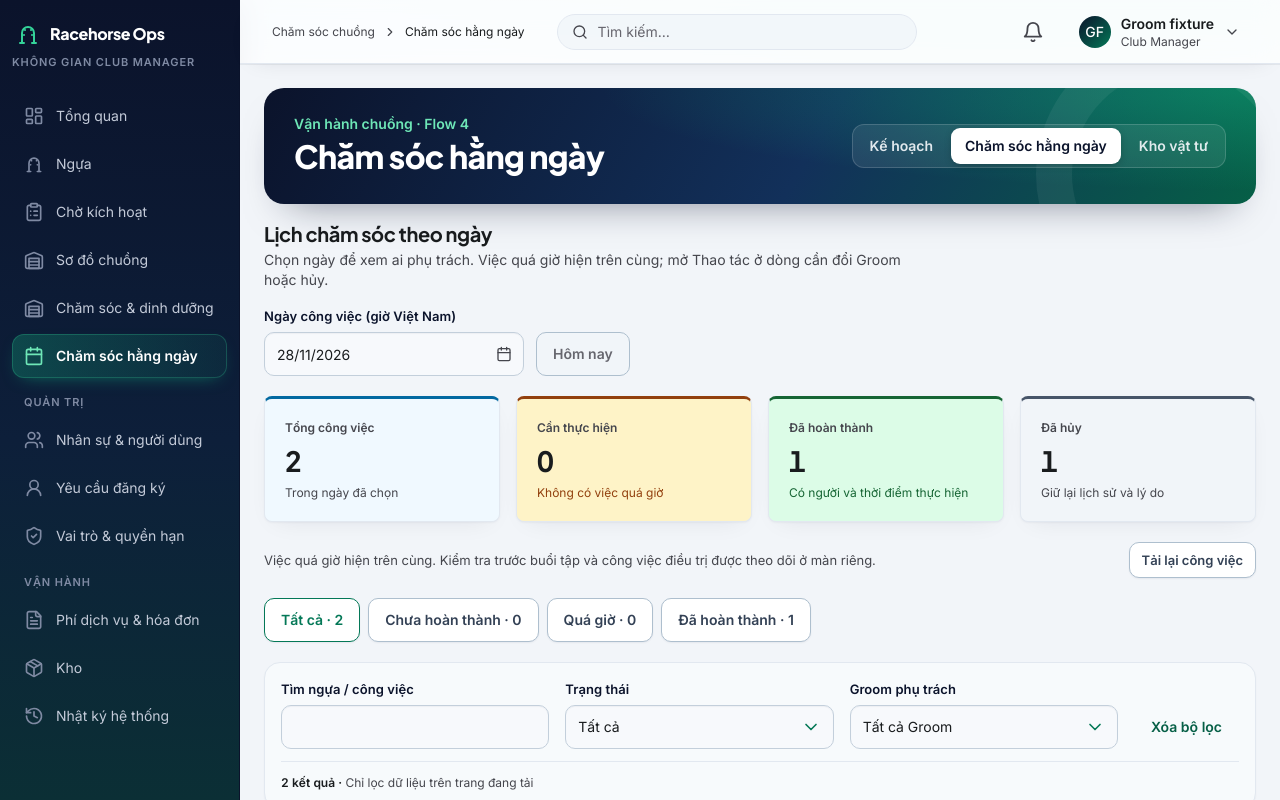
Flow 4 API-only UI › does not offer mutations on cancelled/completed/past work and filters cancellation separately
Step 1. Select "Đã hủy" in the dropdown labelled "Trạng thái" → (699, 727), box [566,706,833,748]
(page scrolled)
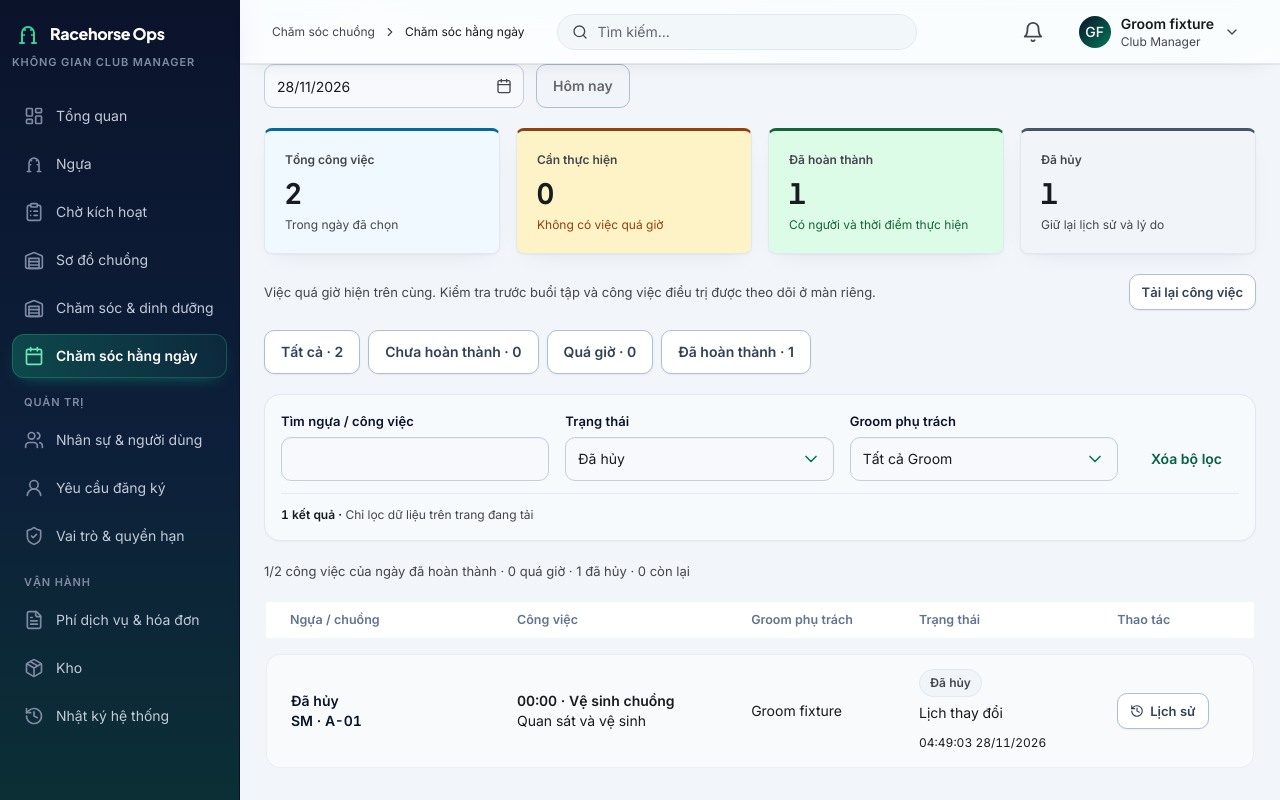
Check: the text "Lịch thay đổi" is shown, box [919,703,1003,723]
